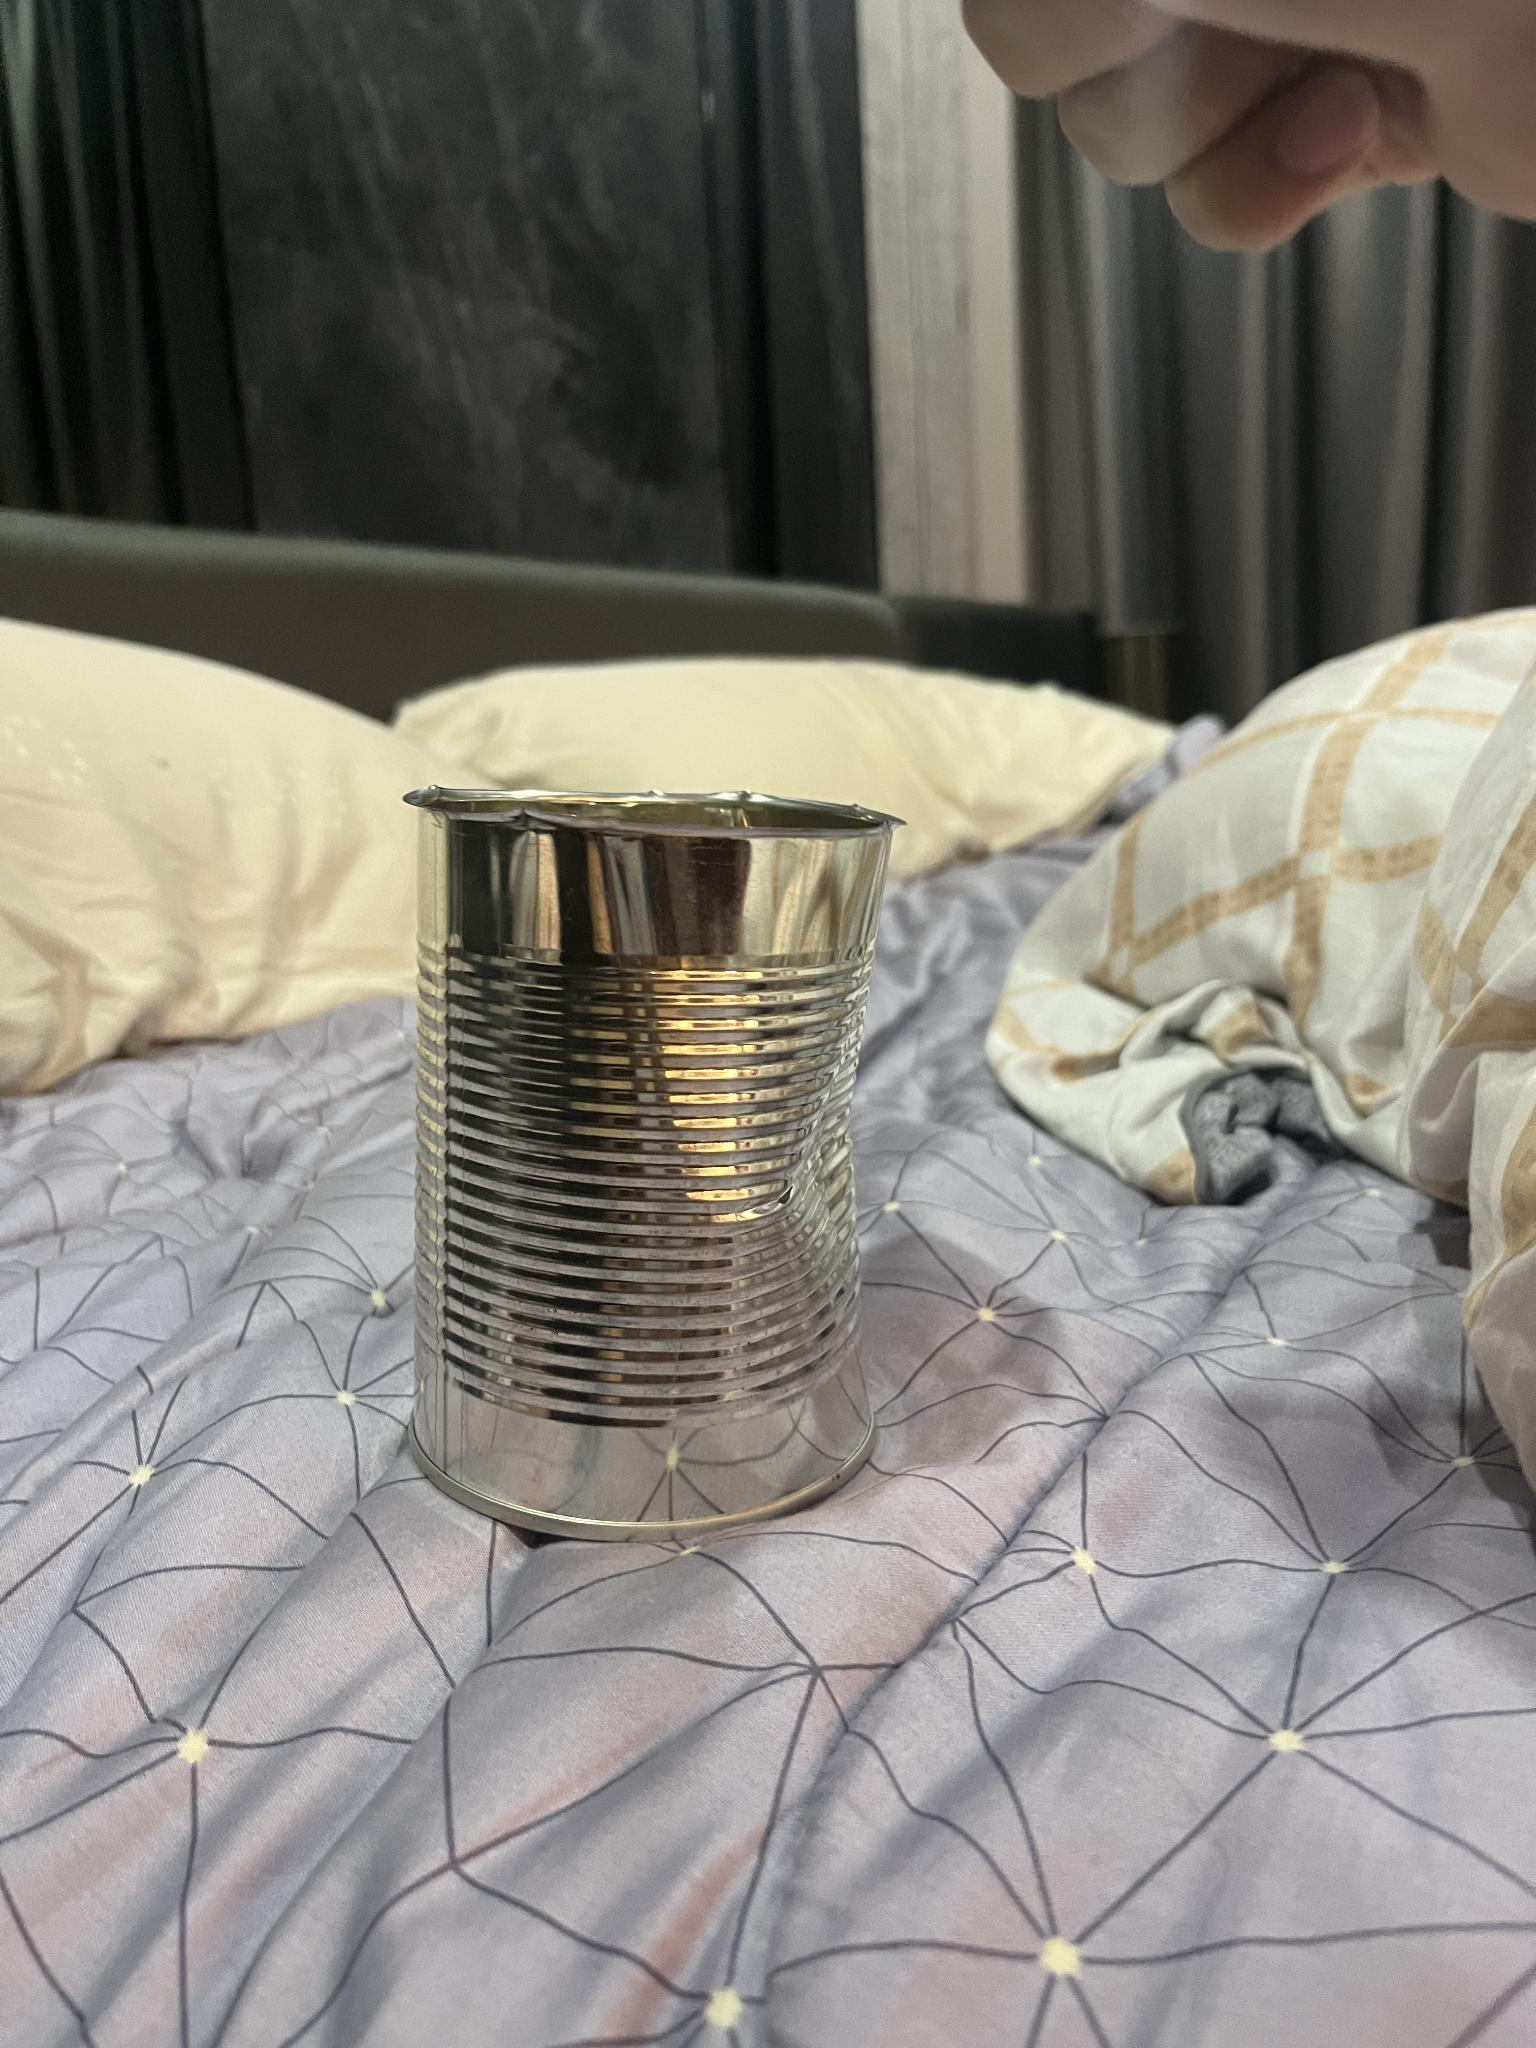metal: (384, 761, 928, 1567)
